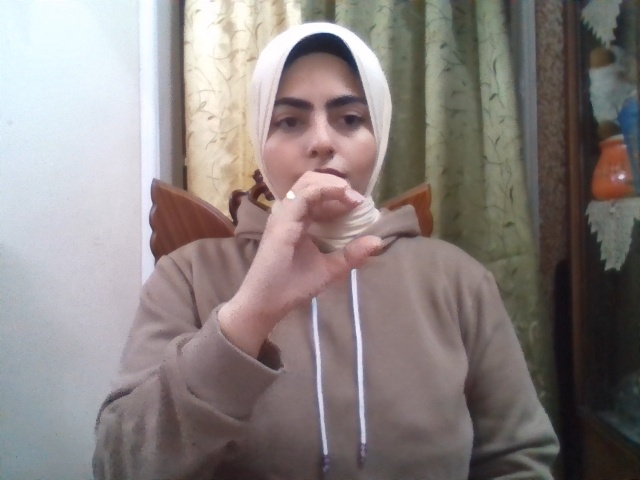C: (247, 170, 382, 317)
